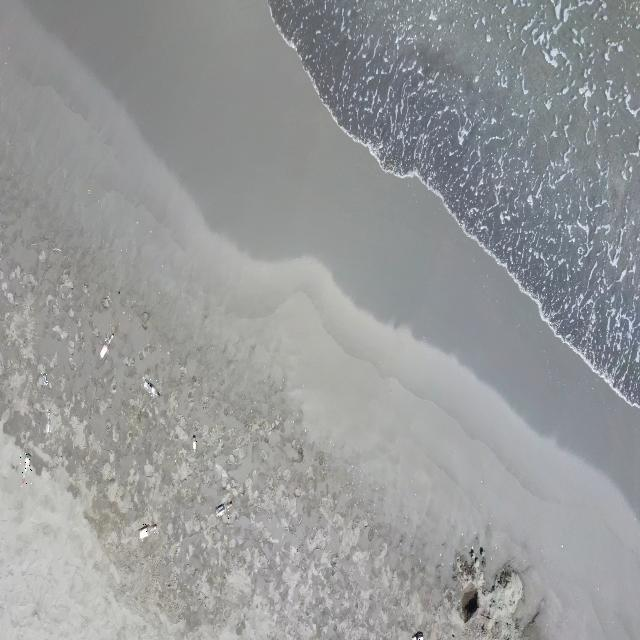glass: (98, 334, 114, 361), (20, 453, 32, 487), (143, 377, 161, 399), (136, 524, 156, 541), (215, 501, 233, 519), (46, 410, 51, 436), (191, 434, 197, 454), (412, 631, 424, 640), (41, 373, 48, 386)
